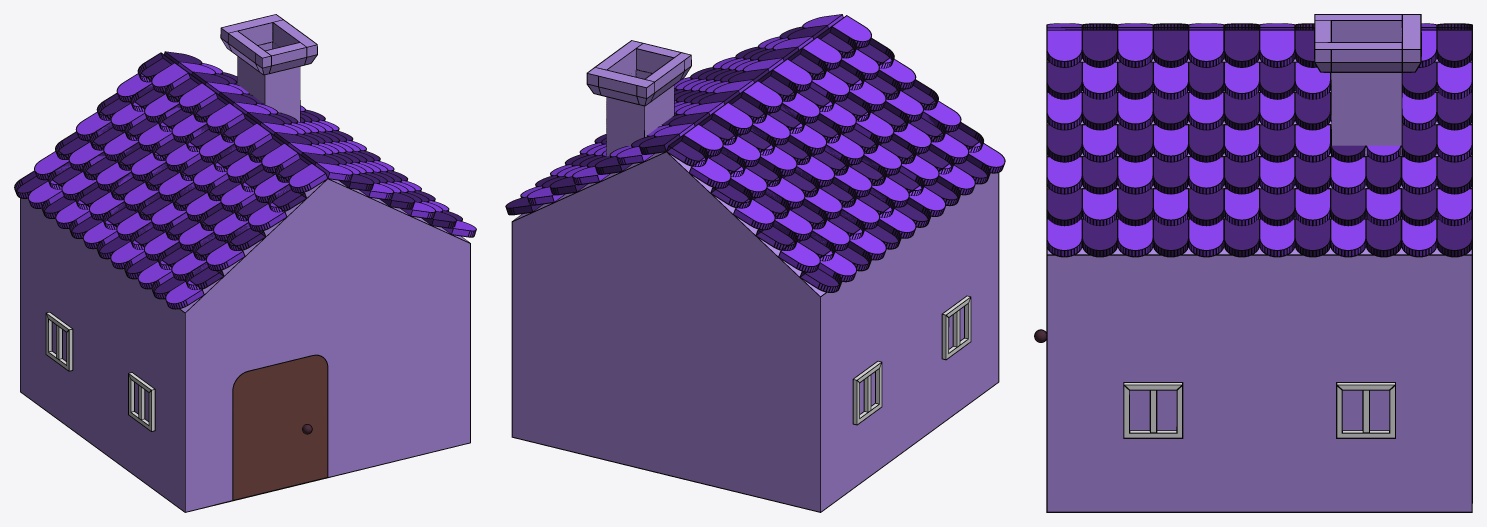
3 renders of one model, left to right at view 1: azimuth 30°, elevation 25°; view 2: azimuth 150°, elevation 25°; view 3: azimuth 270°, elevation 25°, orthographic. The views are drawn at different scales.
Visible parts, largest first — view 1: House.002, Bricks_Left.002, Door.002, Bricks_Right.002, Chimney.002, Window_Left_Left.002, Window_Left_Right.002; view 2: House.002, Bricks_Left.002, Bricks_Right.002, Chimney.002, Window_Left_Right.002, Window_Left_Left.002; view 3: House.002, Bricks_Right.002, Chimney.002, Bricks_Left.002, Window_Right_Left.002, Window_Right_Right.002.
Part boxes in pixels (x1,y1,x2,y2): House.002: [20, 178, 470, 512]; Bricks_Left.002: [14, 52, 327, 309]; Door.002: [232, 355, 328, 500]; Bricks_Right.002: [164, 51, 476, 237]; Chimney.002: [220, 14, 317, 121]; Window_Left_Left.002: [45, 312, 73, 371]; Window_Left_Right.002: [128, 372, 155, 431]; House.002: [511, 151, 999, 512]; Bricks_Left.002: [666, 15, 1005, 292]; Bricks_Right.002: [505, 14, 843, 215]; Chimney.002: [586, 40, 691, 156]; Window_Left_Right.002: [941, 295, 971, 360]; Window_Left_Left.002: [852, 361, 882, 425]; House.002: [1046, 56, 1472, 512]; Bricks_Right.002: [1046, 29, 1472, 257]; Chimney.002: [1314, 14, 1421, 155]; Bricks_Left.002: [1046, 23, 1472, 30]; Window_Right_Left.002: [1123, 382, 1183, 438]; Window_Right_Right.002: [1336, 382, 1395, 438].
Bounding box in the file's own units: 6.47 × 6.73 × 6.19.
